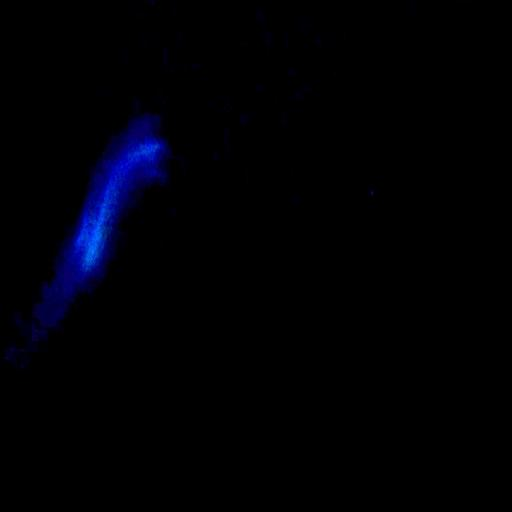object-detection-project: (29, 119, 171, 347)
